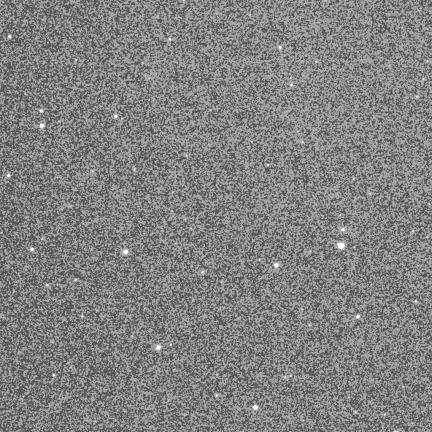blob: (338, 243, 345, 249), (274, 263, 280, 268), (253, 405, 258, 410), (123, 250, 128, 255), (157, 345, 161, 350), (40, 124, 45, 128), (40, 109, 44, 114), (30, 248, 35, 252), (81, 315, 84, 319), (415, 300, 418, 304), (53, 374, 56, 378), (201, 271, 205, 274), (341, 229, 345, 232), (8, 35, 11, 39), (356, 315, 360, 318), (7, 174, 10, 177), (169, 38, 172, 41), (134, 168, 137, 171), (75, 279, 78, 282), (114, 115, 117, 118), (216, 394, 219, 397), (291, 84, 294, 87), (170, 344, 173, 346), (279, 46, 281, 49), (316, 61, 318, 63)
